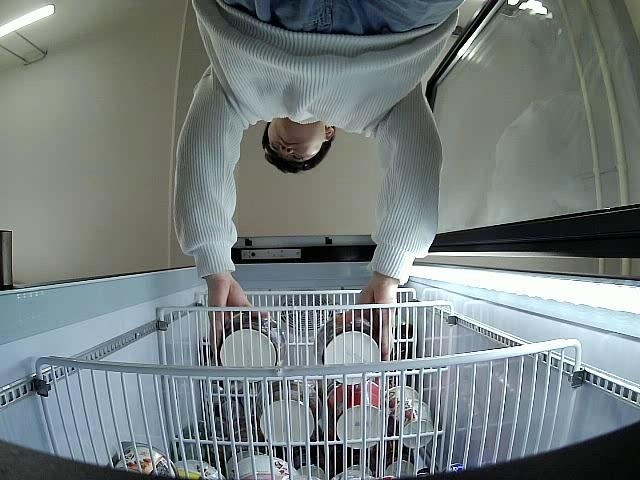00_hand: (334, 290, 398, 358), (205, 289, 269, 355)
07_buldak_L: (219, 314, 285, 384), (314, 319, 382, 386)
